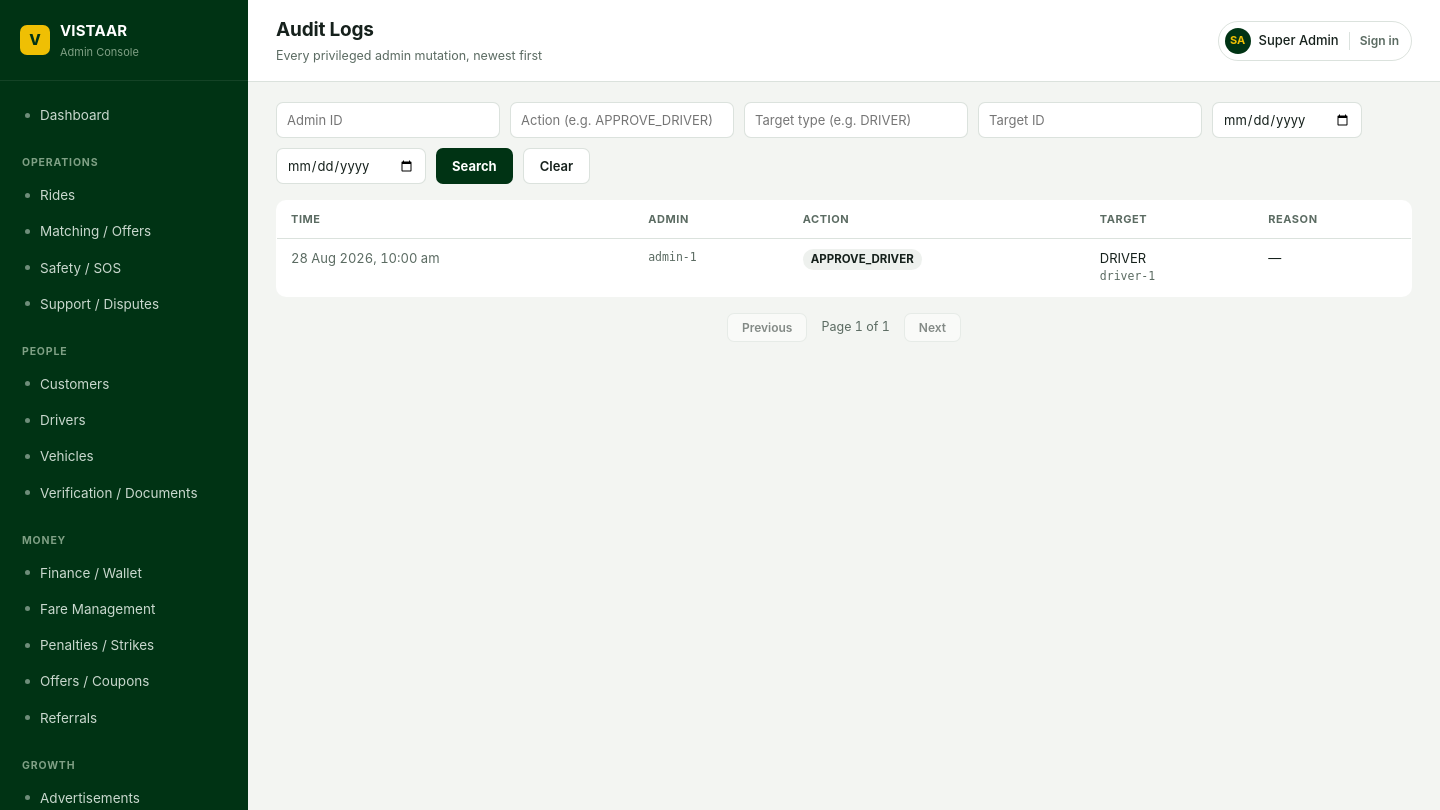
Scenario: AuditLogsPage › clears filters and re-searches
The width and height of the screenshot is (1440, 810).
Expected: the text "APPROVE_DRIVER" is shown, 803,249 -> 922,270
In the field named "Filter by admin ID": [388, 120] box 276,102 -> 500,138, type "admin-1"
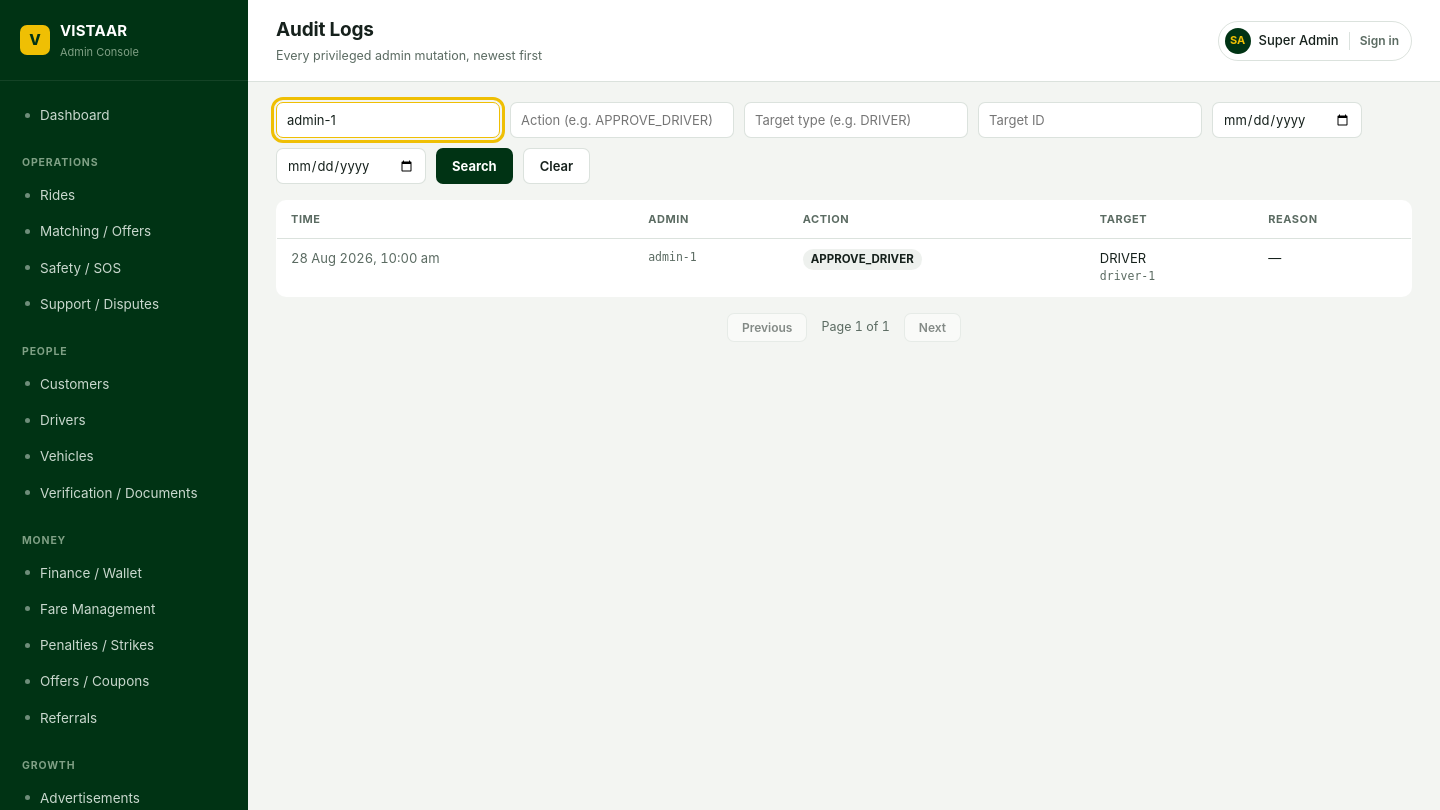
Click the button "Clear": [556, 166] box 523,148 -> 590,184
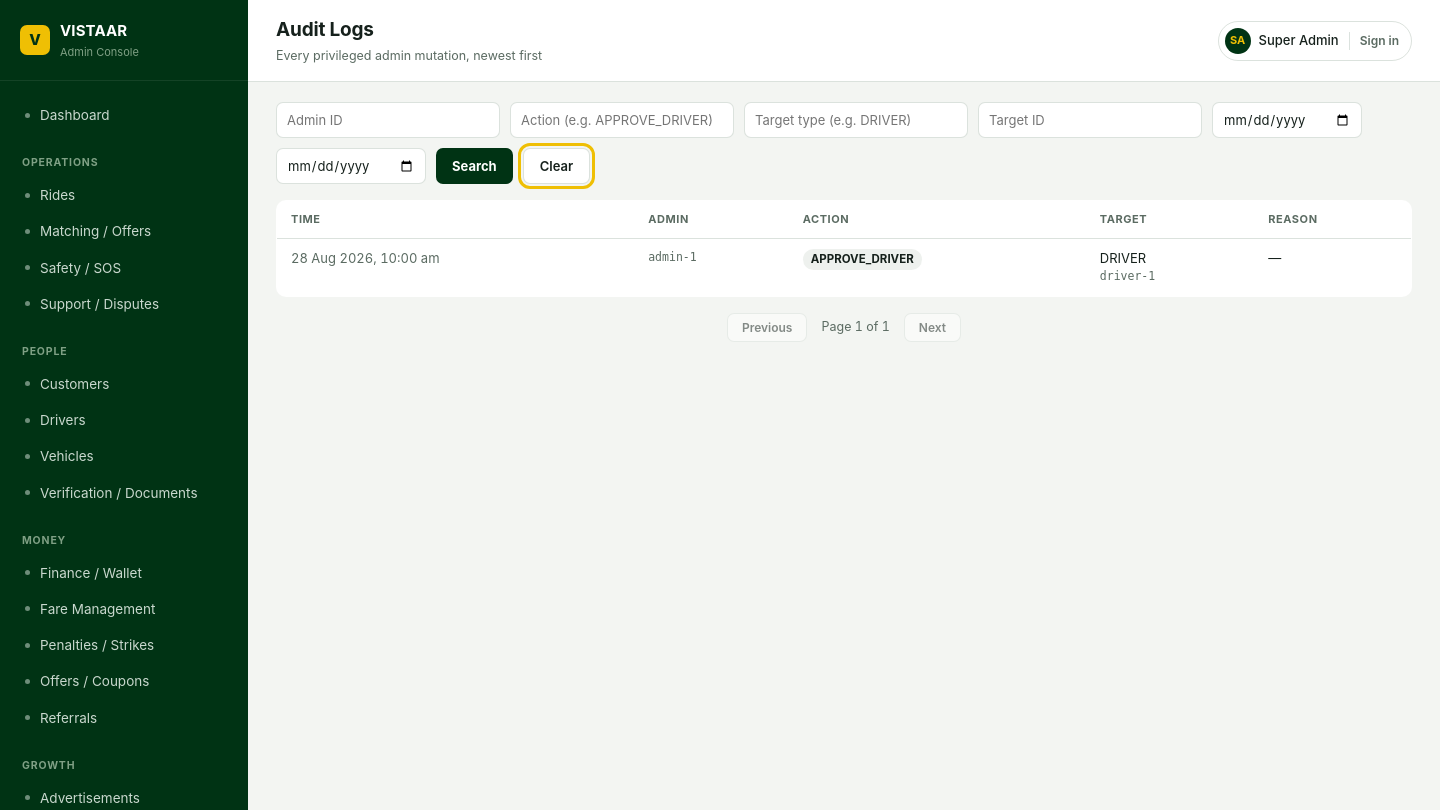
Expected: the field named "Filter by admin ID" is empty, 276,102 -> 500,138
